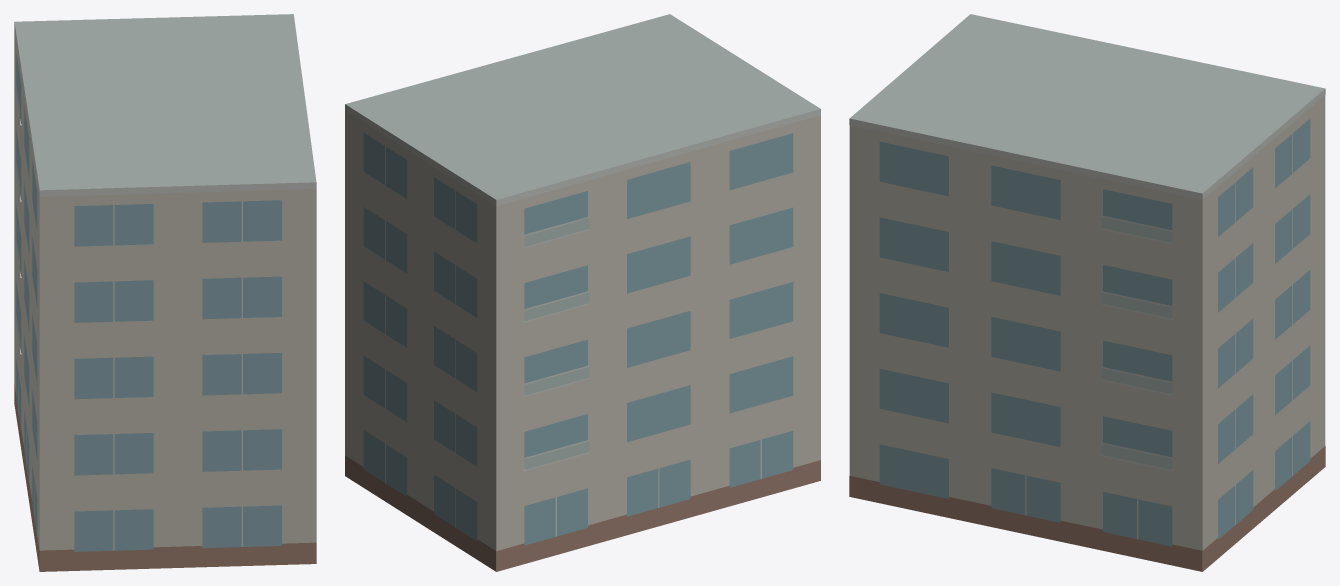
File: survey-upis-32945487.glb
3 renders of one model, left to right at view 1: azimuth 30°, elevation 25°; view 2: azimuth 150°, elevation 25°; view 3: azimuth 270°, elevation 25°, orthographic. The views are drawn at different scales.
Parts seen in each view (by area): view 1: survey-upis-32945487.tmp; view 2: survey-upis-32945487.tmp; view 3: survey-upis-32945487.tmp.
Part boxes in pixels (box(x1,y1,x2,y2)): survey-upis-32945487.tmp: box(14, 14, 316, 571); survey-upis-32945487.tmp: box(345, 14, 820, 571); survey-upis-32945487.tmp: box(849, 14, 1325, 571).
Bounding box in the file's own units: 14.67 × 14.4 × 16.43.
